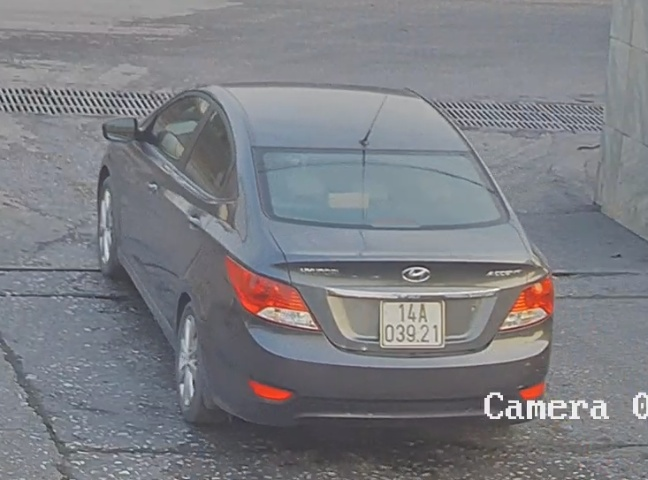vehicle plate: (380, 294, 445, 348)
